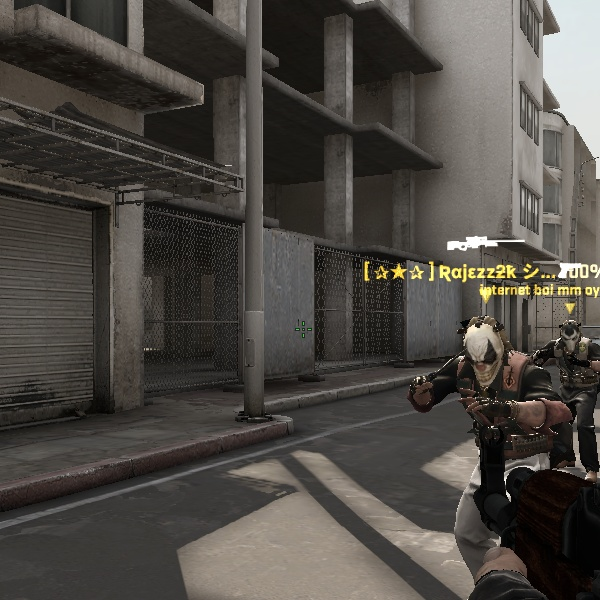t_body: (412, 313, 581, 590), (533, 315, 600, 476)
t_head: (457, 313, 514, 381), (551, 318, 588, 358)
